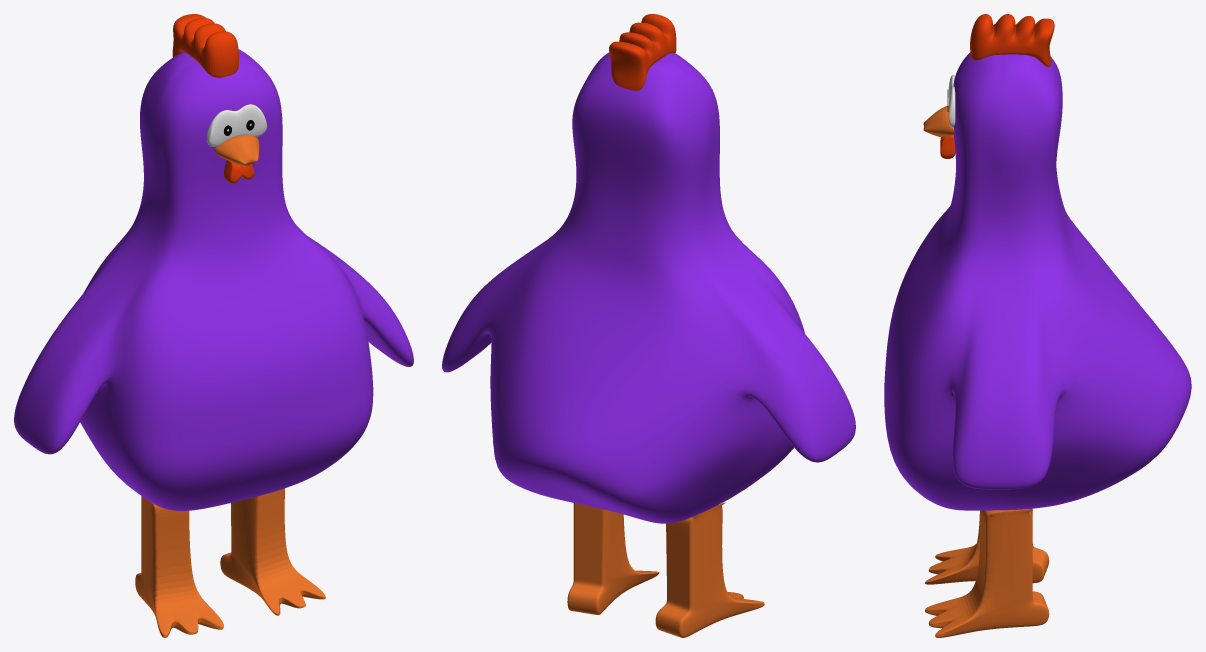
The model's file is TuppPurple.fbx.
3 renders of one model, left to right at view 1: azimuth 30°, elevation 25°; view 2: azimuth 150°, elevation 25°; view 3: azimuth 270°, elevation 25°, orthographic. The views are drawn at different scales.
Visible parts, largest first — view 1: Body, Legs, Hair, Eyes, Beak; view 2: Body, Legs, Hair; view 3: Body, Legs, Hair, Beak.
Boxes of the visible parts, <box> form: Body: <box>14,49,413,510</box>; Legs: <box>135,488,325,637</box>; Hair: <box>172,14,238,77</box>; Eyes: <box>206,104,266,146</box>; Beak: <box>214,134,259,165</box>; Body: <box>442,52,855,523</box>; Legs: <box>567,502,764,637</box>; Hair: <box>609,14,676,90</box>; Body: <box>884,52,1191,510</box>; Legs: <box>925,508,1049,637</box>; Hair: <box>970,14,1054,67</box>; Beak: <box>923,105,954,137</box>.
Bounding box in the file's own units: 526 × 777 × 372.
